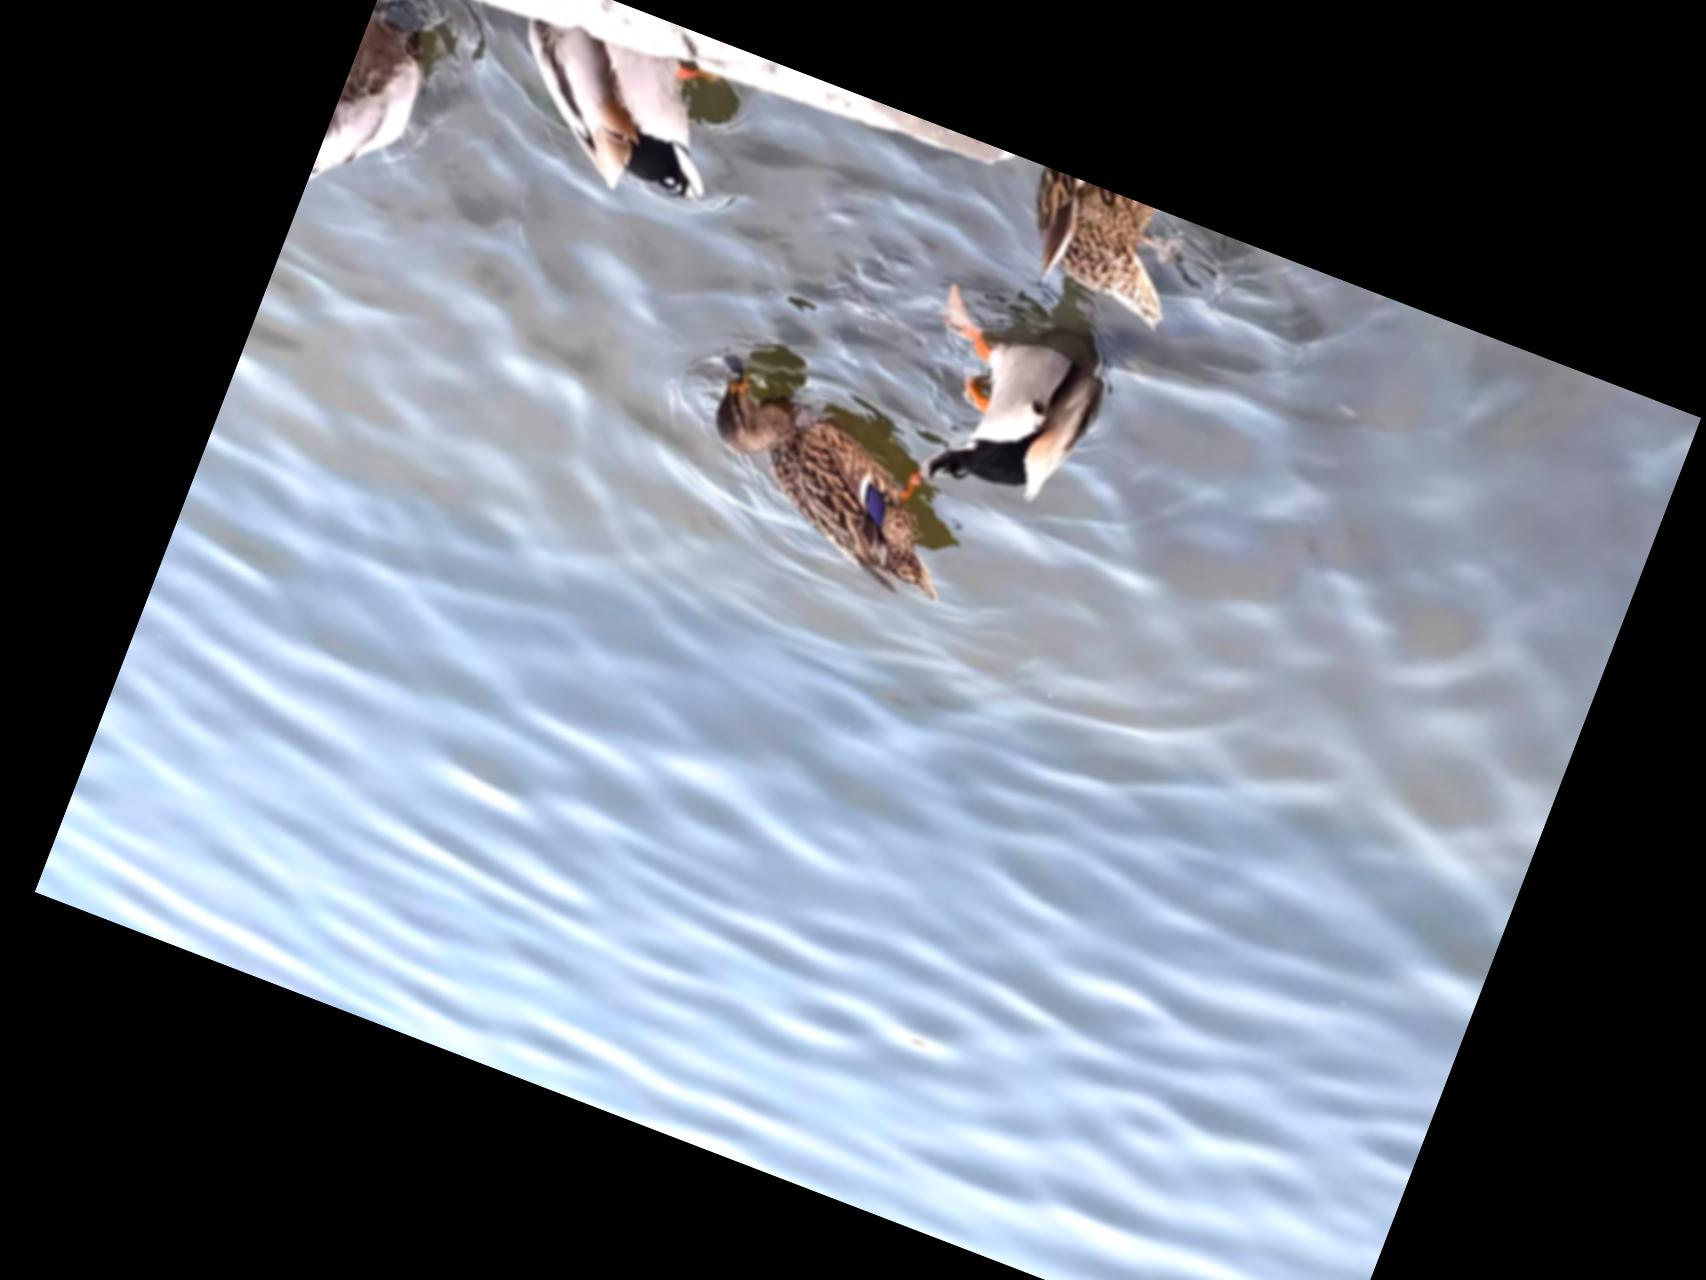duck: (663, 340, 1006, 623), (878, 280, 1145, 549), (484, 7, 756, 223), (1004, 167, 1213, 347), (302, 0, 457, 221)
